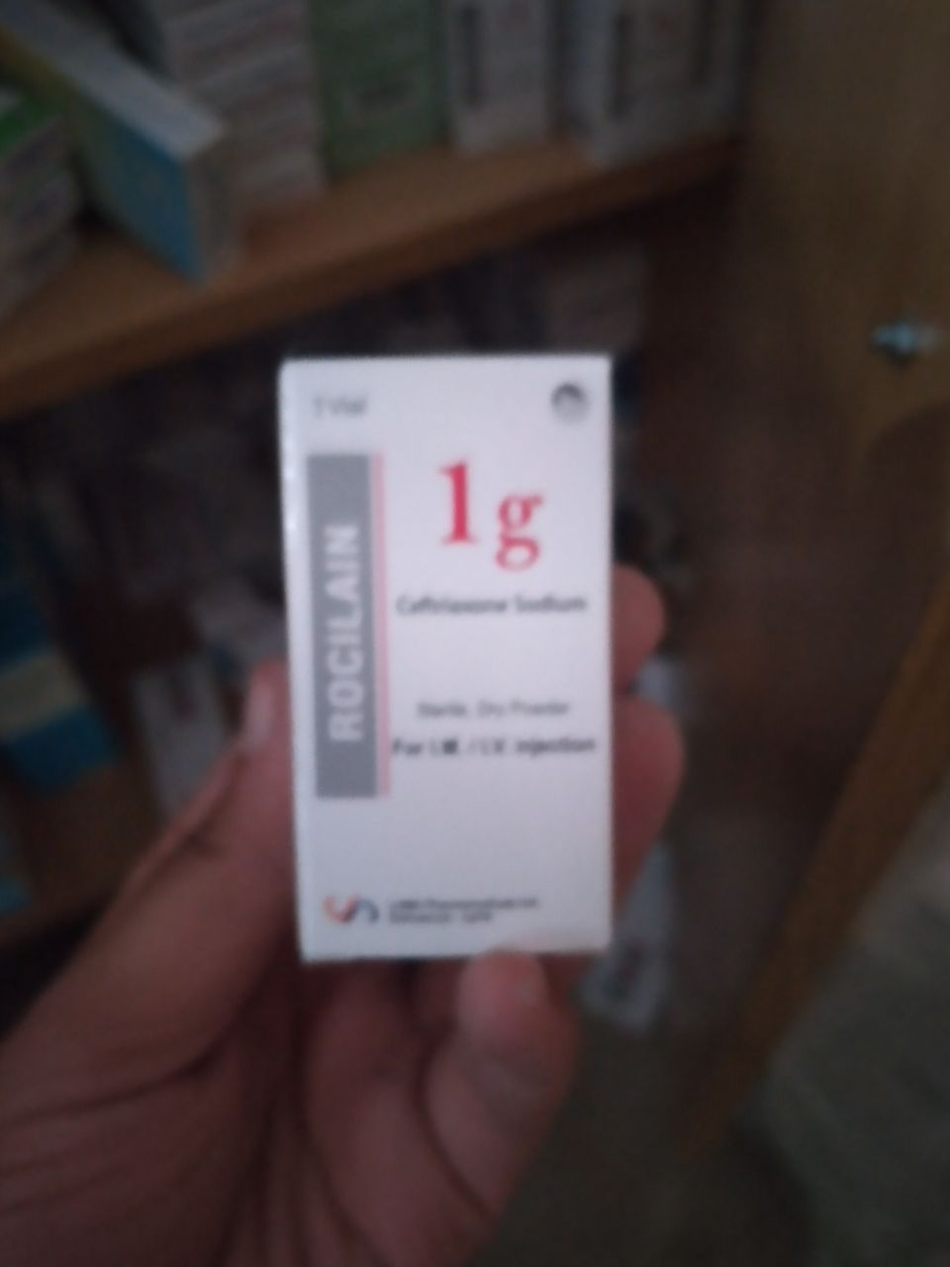Medicine: (287, 346, 623, 963)
